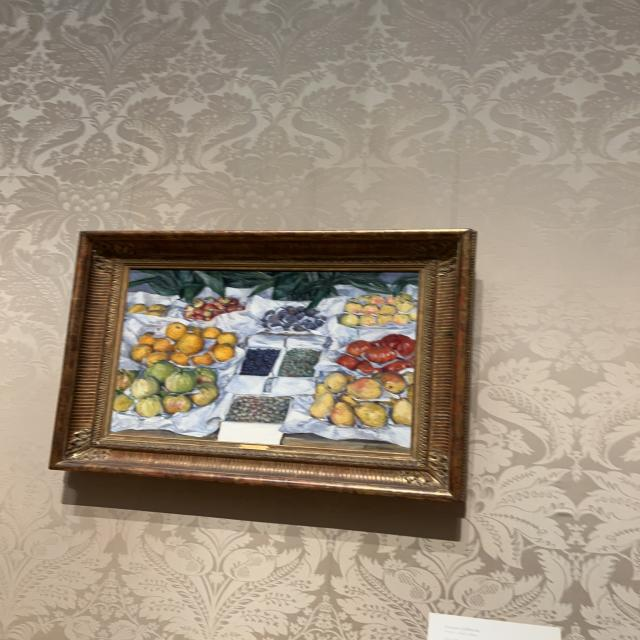fruits: (116, 275, 408, 452)
